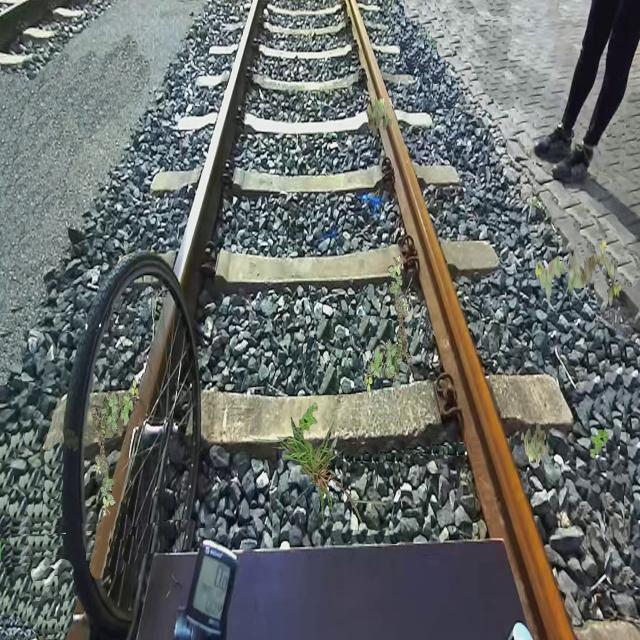Plant: (243, 416, 386, 536), (363, 255, 412, 393), (92, 380, 140, 518), (535, 238, 622, 306), (521, 423, 547, 466), (367, 94, 393, 136), (590, 426, 610, 458), (299, 402, 318, 434)
